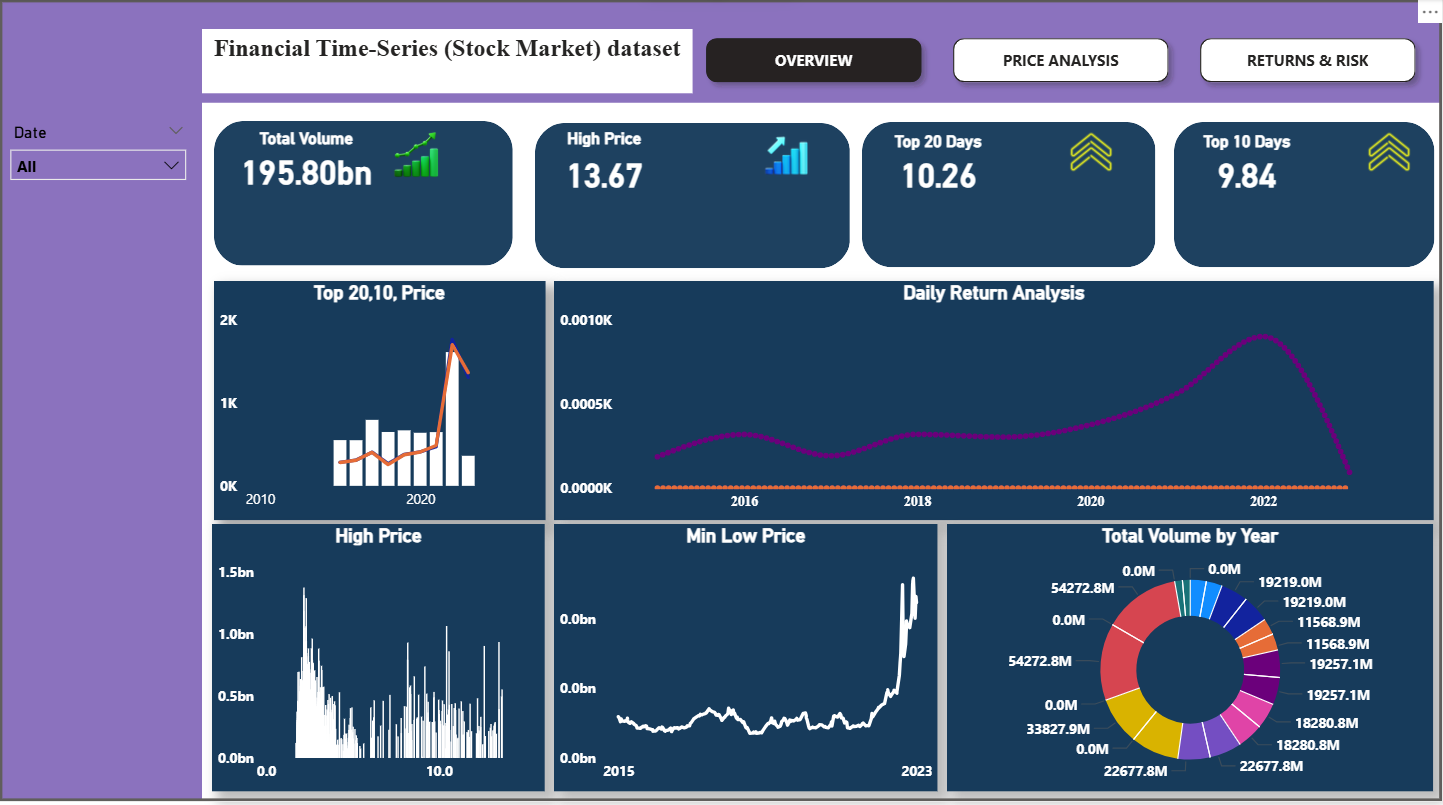

What the dashboard file says about the page in this screenshot:
{"tool":"powerbi","page":{"name":"OVERVIEW ","canvas":[1280,720],"ordinal":0},"visuals":[{"type":"shape","box":[0,0,180.4,712.2],"z":0},{"type":"shape","box":[180.4,0,1099.6,92],"z":1000},{"type":"lineStackedColumnComboChart","title":"Top 20,10, Price ","fields":{"Category":["Stock market Dataset.Date.Variation.Date Hierarchy.Year","Stock market Dataset.Date.Variation.Date Hierarchy.Quarter","Stock market Dataset.Date.Variation.Date Hierarchy.Month","Stock market Dataset.Date.Variation.Date Hierarchy.Day"],"Y":["Sum(Stock market Dataset.Close)"],"Y2":["Stock market Dataset.MA 10 Days","Stock market Dataset.MA 20 Days"]},"box":[190.5,250.3,293.5,211.6],"z":2000},{"type":"shape","box":[190.9,107.9,264.9,128.4],"z":3000},{"type":"columnChart","title":"High Price ","fields":{"Category":["Stock market Dataset.High"],"Y":["Stock market Dataset.Total Volume"]},"box":[188.6,465.6,295.4,237.4],"z":4000},{"type":"shape","box":[475.2,109.9,279.4,128.7],"z":5000},{"type":"card","title":"Total Volume","fields":{"Values":["Stock market Dataset.Total Volume"]},"box":[175.8,115,194.2,57.1],"z":6000},{"type":"card","title":"High Price","fields":{"Values":["Stock market Dataset.Max High Price"]},"box":[455.5,115,162,61.7],"z":7000},{"type":"shape","box":[765.6,109.5,260.4,128.8],"z":8000},{"type":"shape","box":[1041.7,109.5,231,128.8],"z":9000},{"type":"card","title":"Top  20 Days","fields":{"Values":["Stock market Dataset.MA 20 Days"]},"box":[754.6,117.8,156.4,56.1],"z":10000},{"type":"card","title":"Top  10 Days","fields":{"Values":["Stock market Dataset.MA 10 Days"]},"box":[1012.2,117.8,187.7,56.1],"z":11000},{"type":"image","box":[336.8,115,66.3,46],"z":12000},{"type":"image","box":[664.6,115.1,65.9,46.1],"z":13000},{"type":"image","box":[935.8,112.3,66.3,46],"z":14000},{"type":"image","box":[1199.9,112.3,66.3,46],"z":15000},{"type":"lineClusteredColumnComboChart","title":"Daily Return Analysis","fields":{"Category":["Stock market Dataset.Date.Variation.Date Hierarchy.Year","Stock market Dataset.Date.Variation.Date Hierarchy.Quarter","Stock market Dataset.Date.Variation.Date Hierarchy.Month","Stock market Dataset.Date.Variation.Date Hierarchy.Day"],"Y":["Stock market Dataset.Daily Return %"],"Y2":["Stock market Dataset.Previous Close","Stock market Dataset.Price Change %","Stock market Dataset.Total Volume"]},"box":[492.3,250.3,780.3,211.6],"z":16000},{"type":"lineChart","title":"Min Low Price ","fields":{"Y":["Stock market Dataset.Min Low Price"],"Y2":["Stock market Dataset.Previous Close"],"Category":["Stock market Dataset.Date.Variation.Date Hierarchy.Year","Stock market Dataset.Date.Variation.Date Hierarchy.Quarter","Stock market Dataset.Date.Variation.Date Hierarchy.Month","Stock market Dataset.Date.Variation.Date Hierarchy.Day"]},"box":[492.3,465.6,340.5,237.4],"z":17000},{"type":"donutChart","title":"Total Volume by Year","fields":{"Y":["Stock market Dataset.Previous Close","Sum(Stock market Dataset.Trade Volume)","Stock market Dataset.Price Change %","Stock market Dataset.Total Volume"],"Category":["Stock market Dataset.Date.Variation.Date Hierarchy.Year"]},"box":[840.5,465.7,431.4,237.4],"z":18000},{"type":"textbox","box":[179.9,26.3,434.8,57.4],"z":19000},{"type":"pageNavigator","box":[618.1,25.9,647.6,57.1],"z":20000},{"type":"slicer","fields":{"Values":["Stock market Dataset.Date"]},"box":[0,105.3,175.7,68.7],"z":21000},{"type":"actionButton","box":[0,0,1280,711.8],"z":22000}]}

Visuals, with their boxes on the page's 1280x720 design canvas (x1, y1, x2, y2). These are canvas units, not pixel positions in the 1443x805 screenshot, which may show the page scaled, cropped or inside an application window:
shape: <region>0, 0, 180, 712</region>
shape: <region>180, 0, 1280, 92</region>
"Top 20,10, Price " lineStackedColumnComboChart: <region>190, 250, 484, 462</region>
shape: <region>191, 108, 456, 236</region>
"High Price " columnChart: <region>189, 466, 484, 703</region>
shape: <region>475, 110, 755, 239</region>
"Total Volume" card: <region>176, 115, 370, 172</region>
"High Price" card: <region>456, 115, 618, 177</region>
shape: <region>766, 110, 1026, 238</region>
shape: <region>1042, 110, 1273, 238</region>
"Top  20 Days" card: <region>755, 118, 911, 174</region>
"Top  10 Days" card: <region>1012, 118, 1200, 174</region>
image: <region>337, 115, 403, 161</region>
image: <region>665, 115, 730, 161</region>
image: <region>936, 112, 1002, 158</region>
image: <region>1200, 112, 1266, 158</region>
"Daily Return Analysis" lineClusteredColumnComboChart: <region>492, 250, 1273, 462</region>
"Min Low Price " lineChart: <region>492, 466, 833, 703</region>
"Total Volume by Year" donutChart: <region>840, 466, 1272, 703</region>
textbox: <region>180, 26, 615, 84</region>
pageNavigator: <region>618, 26, 1266, 83</region>
slicer - Stock market Dataset.Date: <region>0, 105, 176, 174</region>
actionButton: <region>0, 0, 1280, 712</region>
